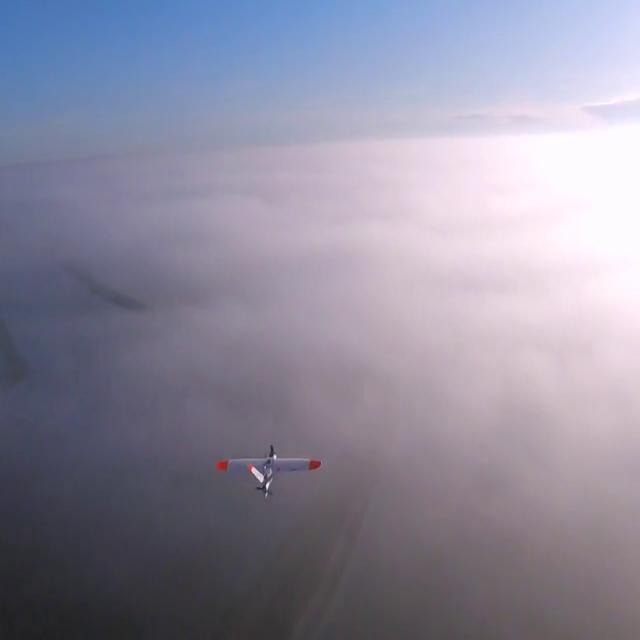iha: (238, 447, 285, 509)
